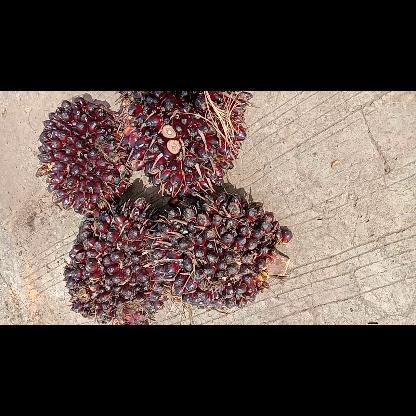TBS mentah: (149, 191, 295, 315), (112, 91, 254, 197), (62, 196, 170, 324), (32, 94, 134, 218)
